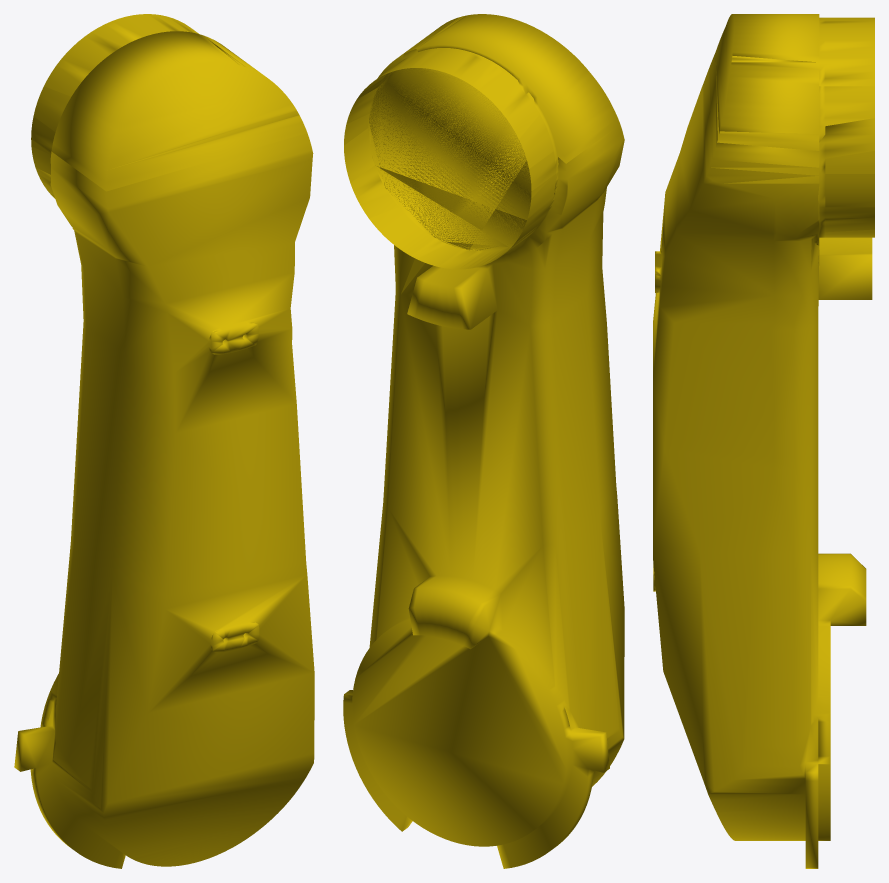
3 renders of one model, left to right at view 1: azimuth 30°, elevation 25°; view 2: azimuth 150°, elevation 25°; view 3: azimuth 270°, elevation 25°, orthographic.
Parts seen in each view (by area): view 1: kr60_3; view 2: kr60_3; view 3: kr60_3.
Boxes of the visible parts, x1,y1,x2,y2 form: kr60_3: (14,14,314,868); kr60_3: (343,14,624,868); kr60_3: (653,14,874,868).
Size of what is drawn, in the model's own units: 117 by 349 by 85.08.
